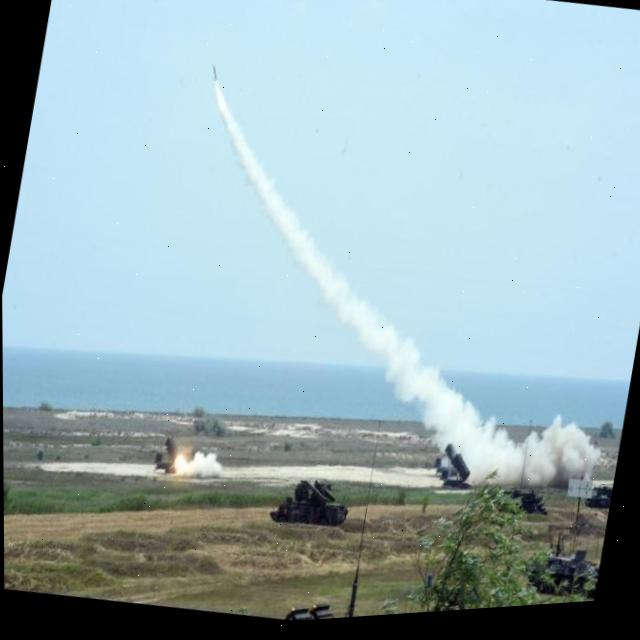missile: (201, 56, 236, 90)
